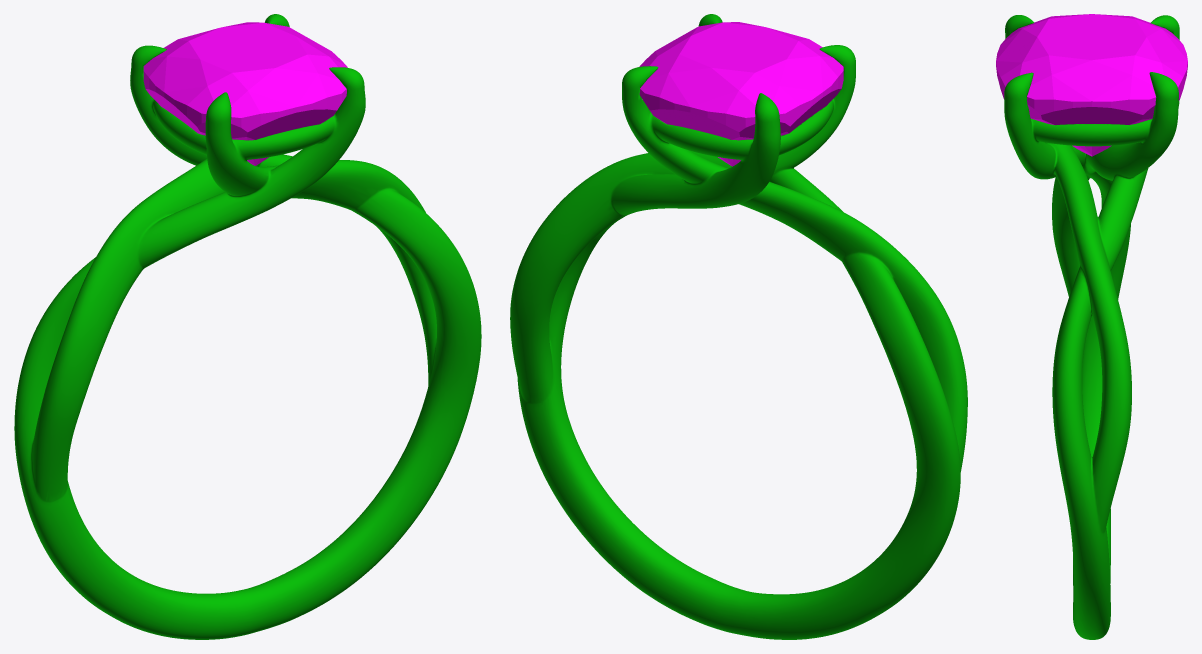
File: BE1818_CU_200ct_RENDER.glb
3 views of the same model, side by side, from view 1: azimuth 30°, elevation 25°; view 2: azimuth 150°, elevation 25°; view 3: azimuth 270°, elevation 25° (orthographic).
Visible parts, largest first — view 1: Metal 01, CS_Diamond_Cushion; view 2: Metal 01, CS_Diamond_Cushion; view 3: Metal 01, CS_Diamond_Cushion.
Boxes of the visible parts, x1=… form: Metal 01: x1=14, y1=14, x2=481, y2=639; CS_Diamond_Cushion: x1=143, y1=22, x2=347, y2=165; Metal 01: x1=510, y1=14, x2=967, y2=639; CS_Diamond_Cushion: x1=639, y1=22, x2=843, y2=166; Metal 01: x1=1004, y1=15, x2=1179, y2=639; CS_Diamond_Cushion: x1=996, y1=14, x2=1187, y2=156.
Size of the model in its own units: 20.08 by 24.95 by 7.5.
